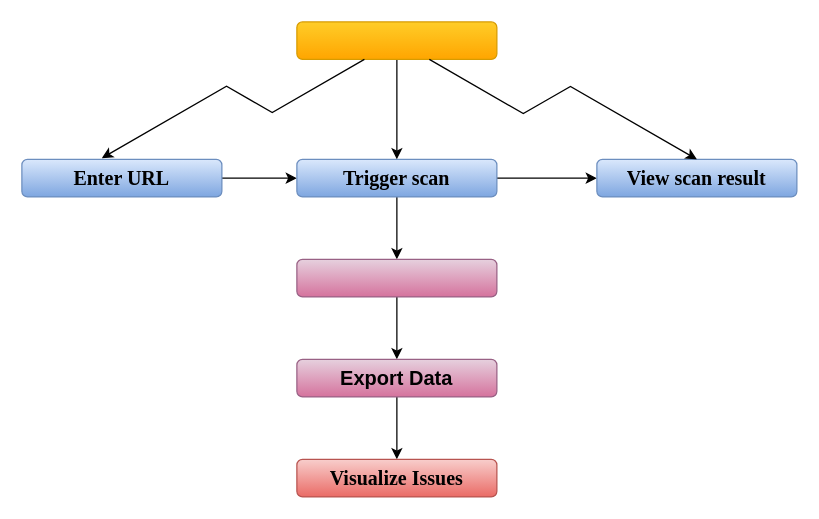
Image size: 819x519. Some labels were removed from this diagram. The shapes that lost their labels are listed below. From the top down, each one's box as (x1, y1, x2, y2) in pixels, then its label:
(296, 21, 497, 59): User
(296, 258, 497, 297): Log Data
